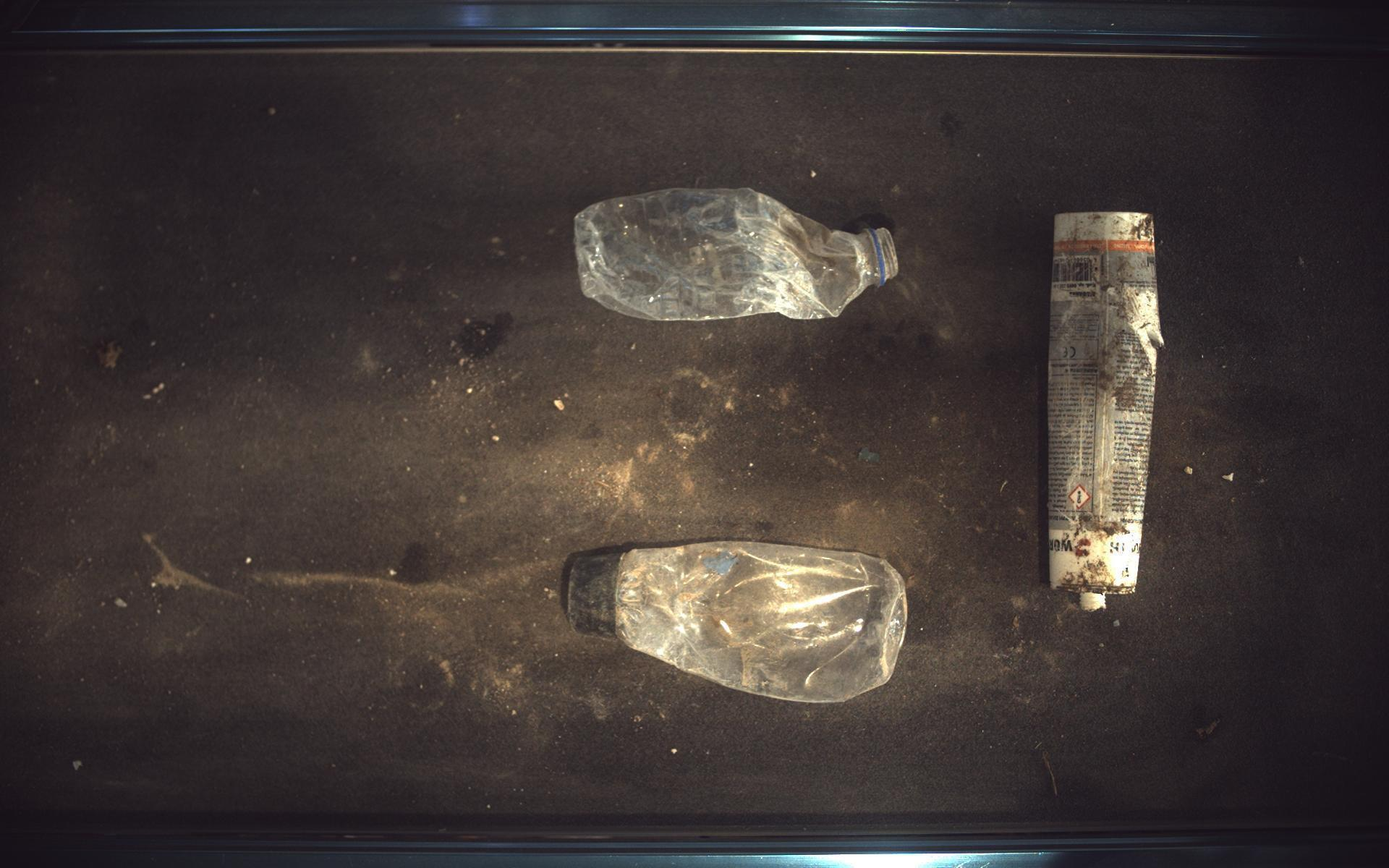general_w: (562, 541, 909, 704), (575, 187, 900, 320)
plastic: (1050, 212, 1165, 611)
